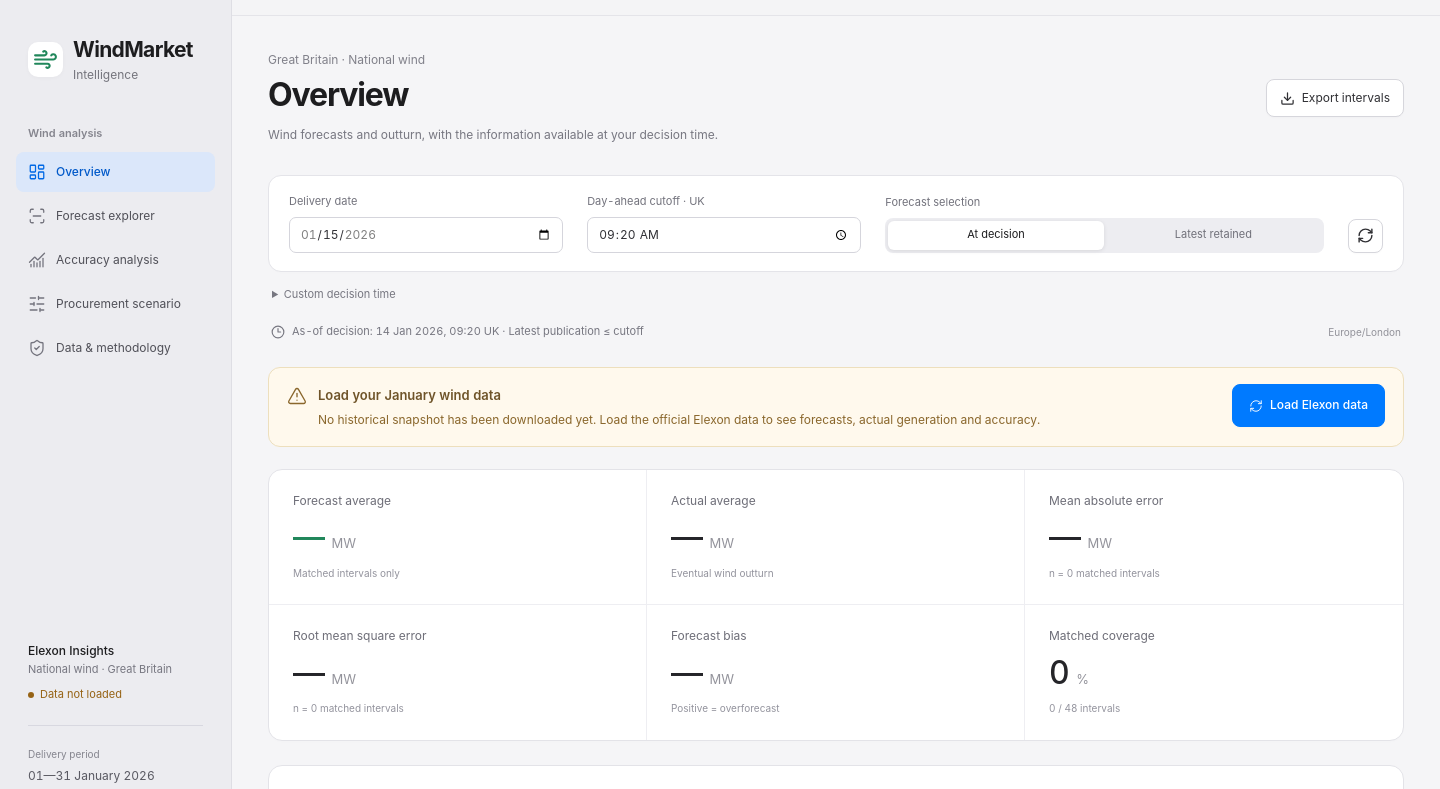
Test: lets a local user request real source loading and shows progress
(page scrolled)
Click the button "Load Elexon data" at (1308, 405), box [1232, 384, 1385, 427]
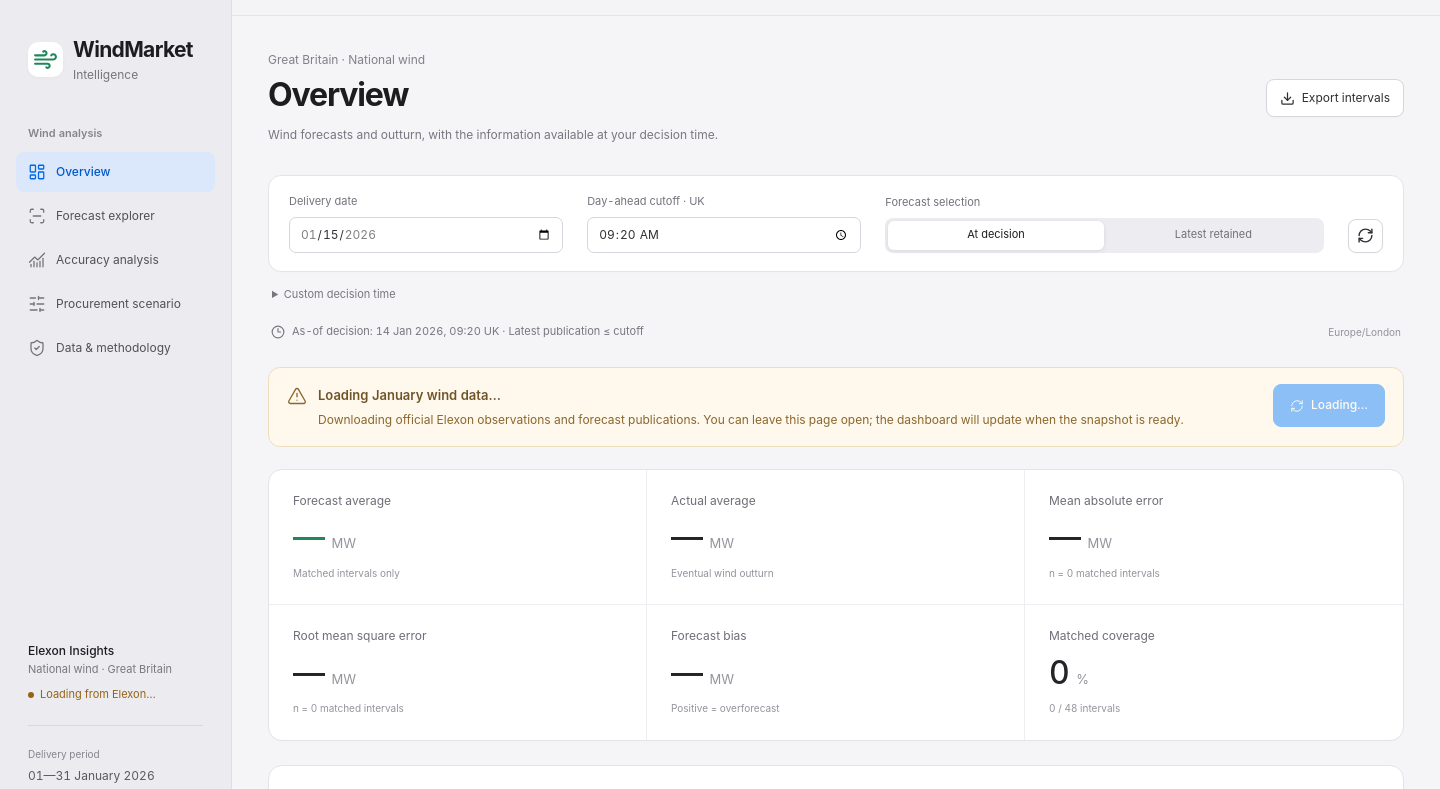
Result: the text "Loading January wind data…" is shown at [318, 387, 501, 403]
